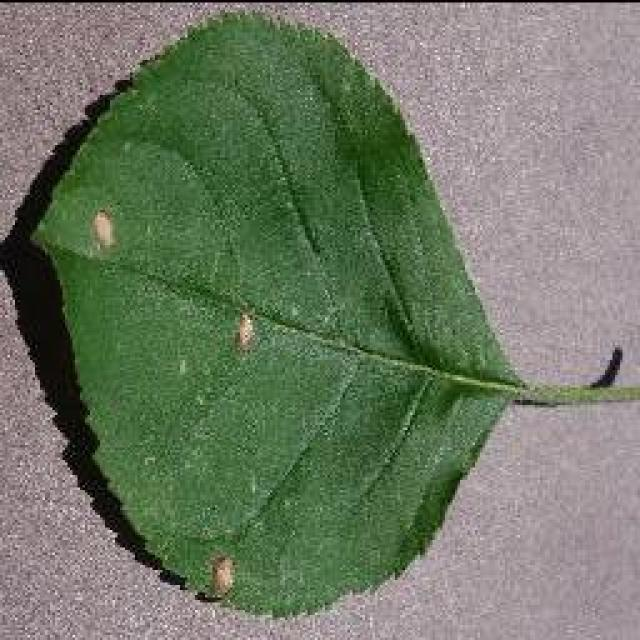black_rot: (195, 547, 247, 601), (226, 302, 274, 358), (93, 199, 129, 259)
